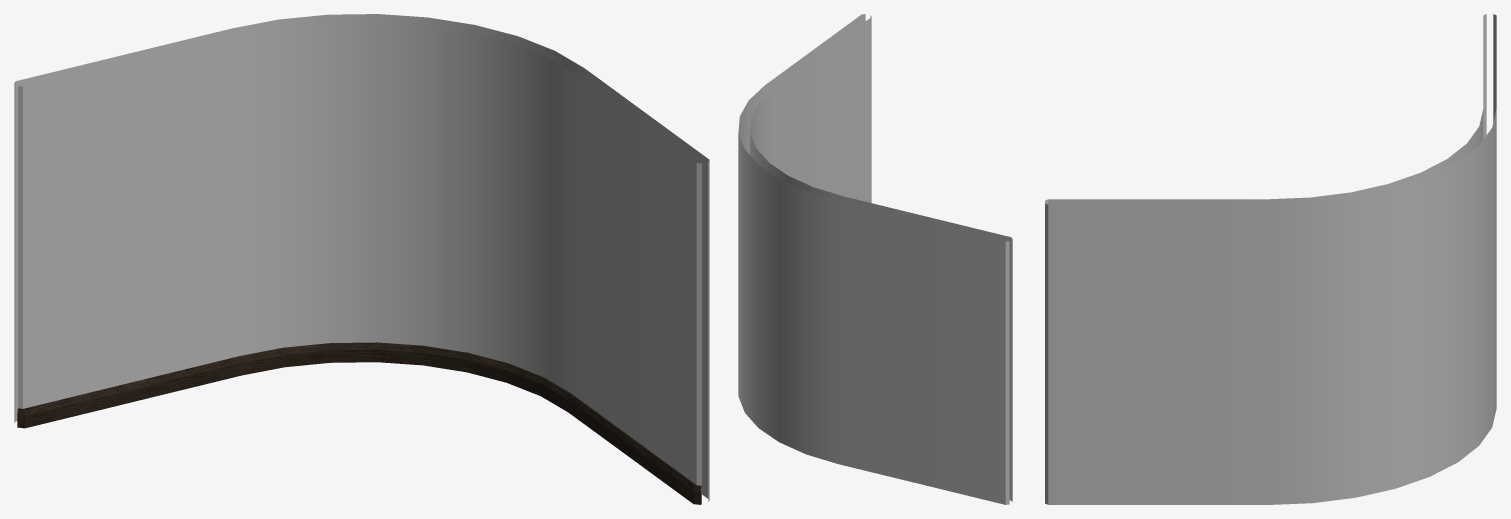
Rendered from wall_1_rounded_corner_1_2.fbx.
3 renders of one model, left to right at view 1: azimuth 30°, elevation 25°; view 2: azimuth 150°, elevation 25°; view 3: azimuth 270°, elevation 25°, orthographic. The views are drawn at different scales.
Parts seen in each view (by area): view 1: wall_1_rounded_corner_1_2; view 2: wall_1_rounded_corner_1_2; view 3: wall_1_rounded_corner_1_2.
Part boxes in pixels (x1,y1,x2,y2): wall_1_rounded_corner_1_2: (14,14,709,504); wall_1_rounded_corner_1_2: (738,14,1012,504); wall_1_rounded_corner_1_2: (1045,14,1496,504).
Bounding box in the file's own units: 4.11 × 3 × 4.11.
